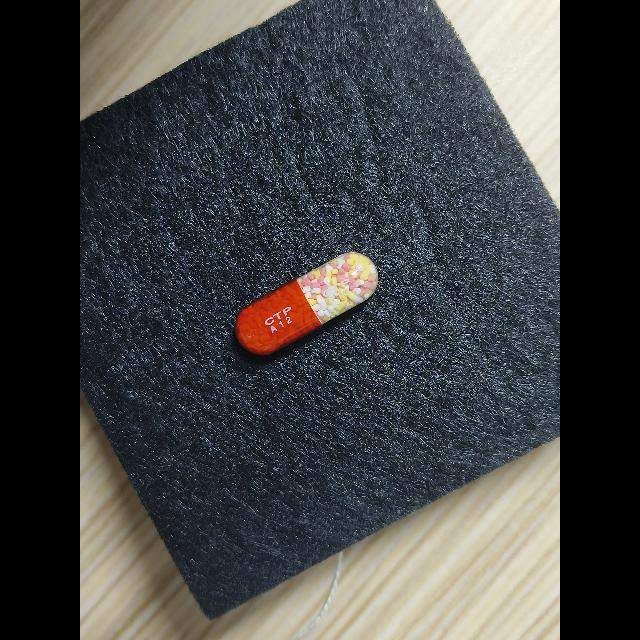Intact Capsule: (235, 252, 378, 355)
